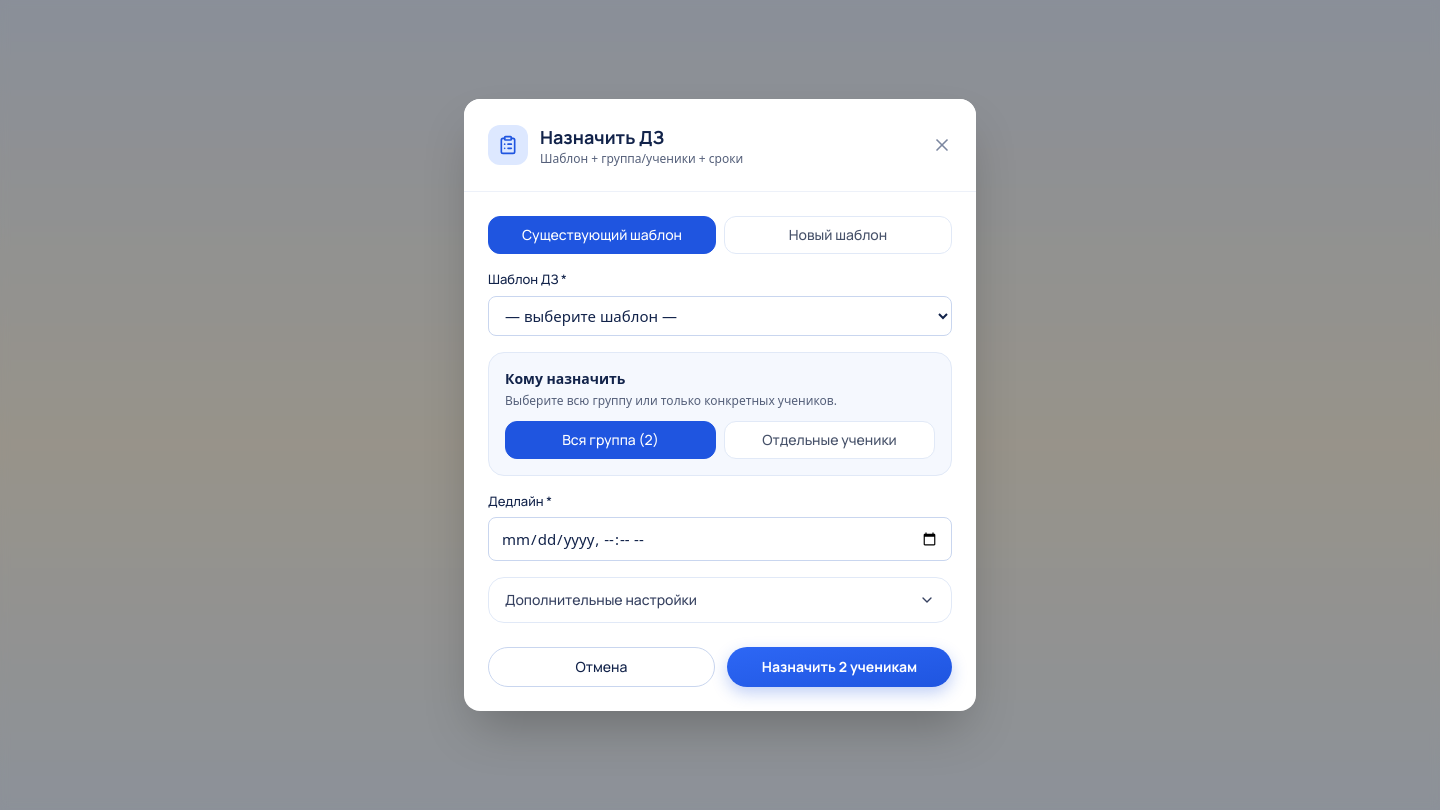
Test case: AssignHomeworkTemplateModal › запланированная публикация без даты публикации — ошибка валидации
Select "Существующий шаблон (v1)" in the dropdown labelled "Шаблон ДЗ *". click: x=720, y=316
box: 488,296 -> 952,336
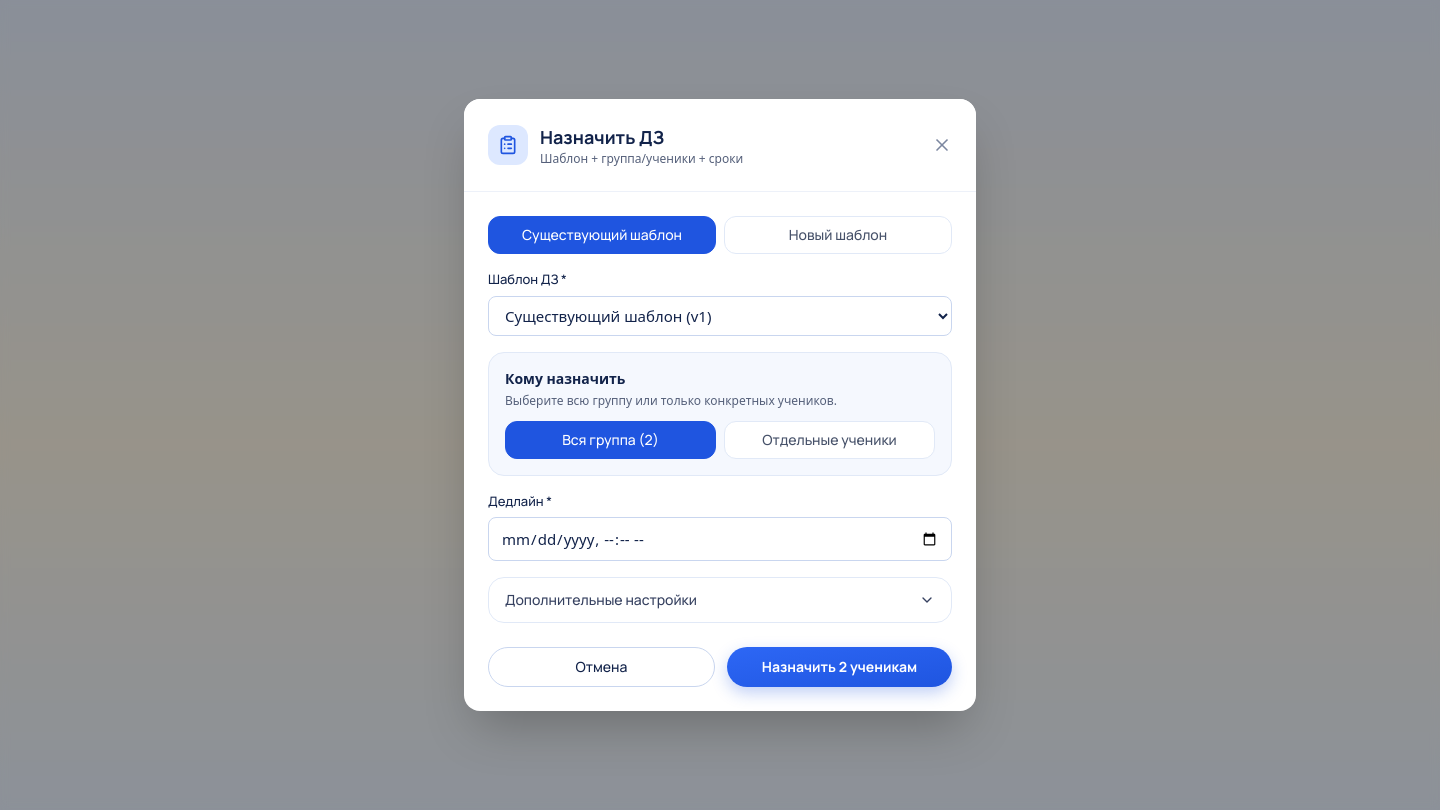
Click the button "Дополнительные настройки". click: x=601, y=600
box: 489,578 -> 951,622
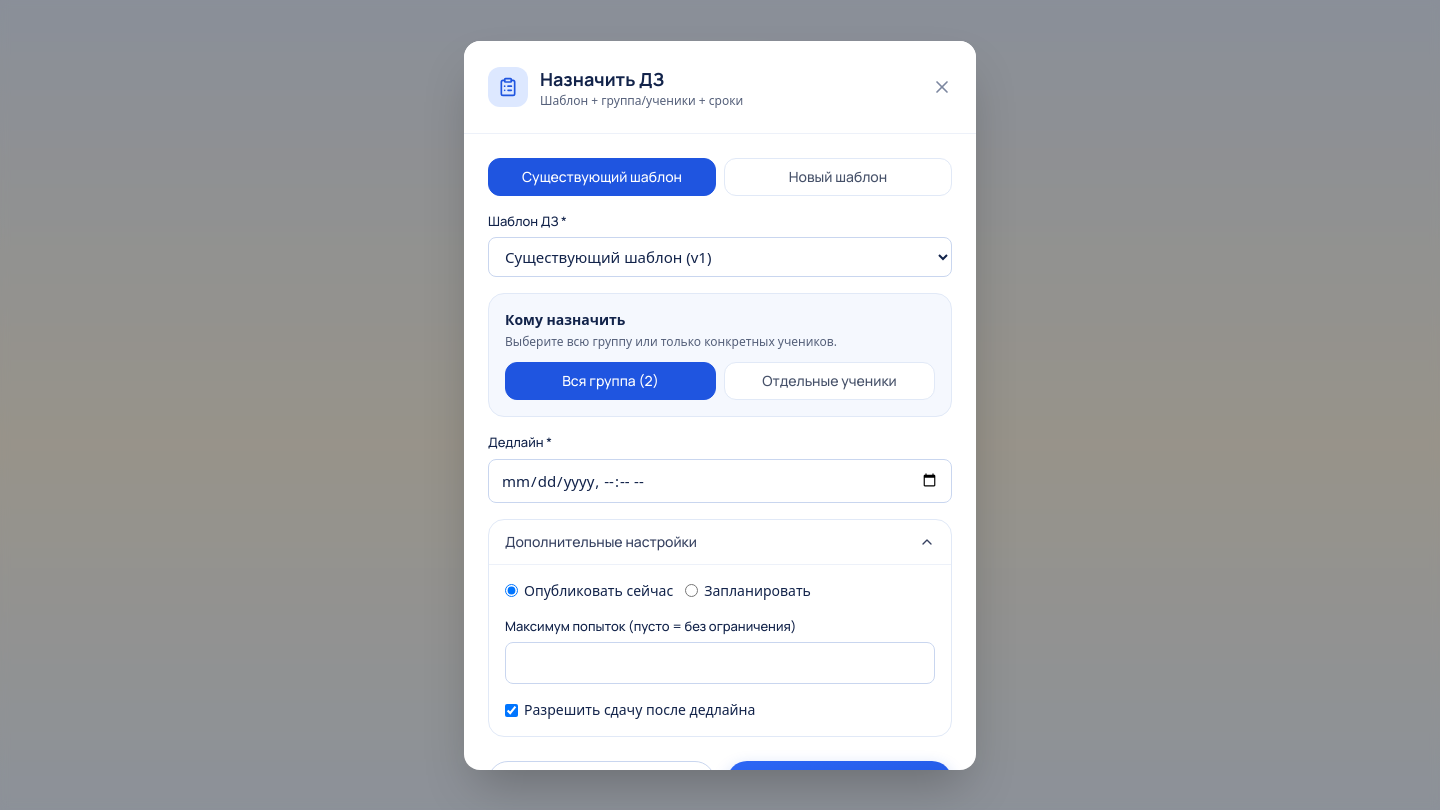
Click the radio button labelled "Запланировать". click: x=692, y=590
box: 685,584 -> 698,597
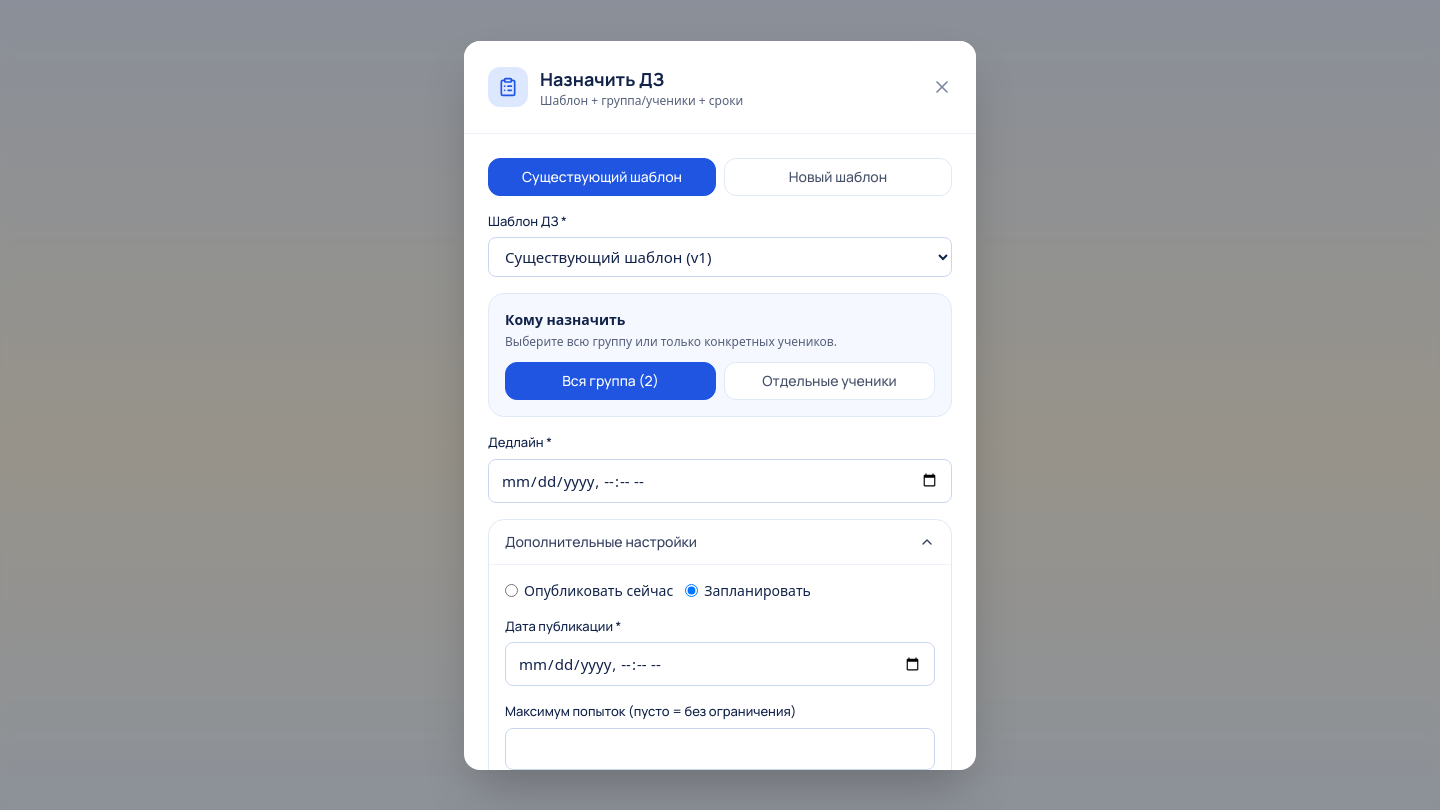
Type "2026-12-01T12:00" into the field labelled "Дедлайн *". click: x=720, y=480
box: 488,458 -> 952,502
(page scrolled)
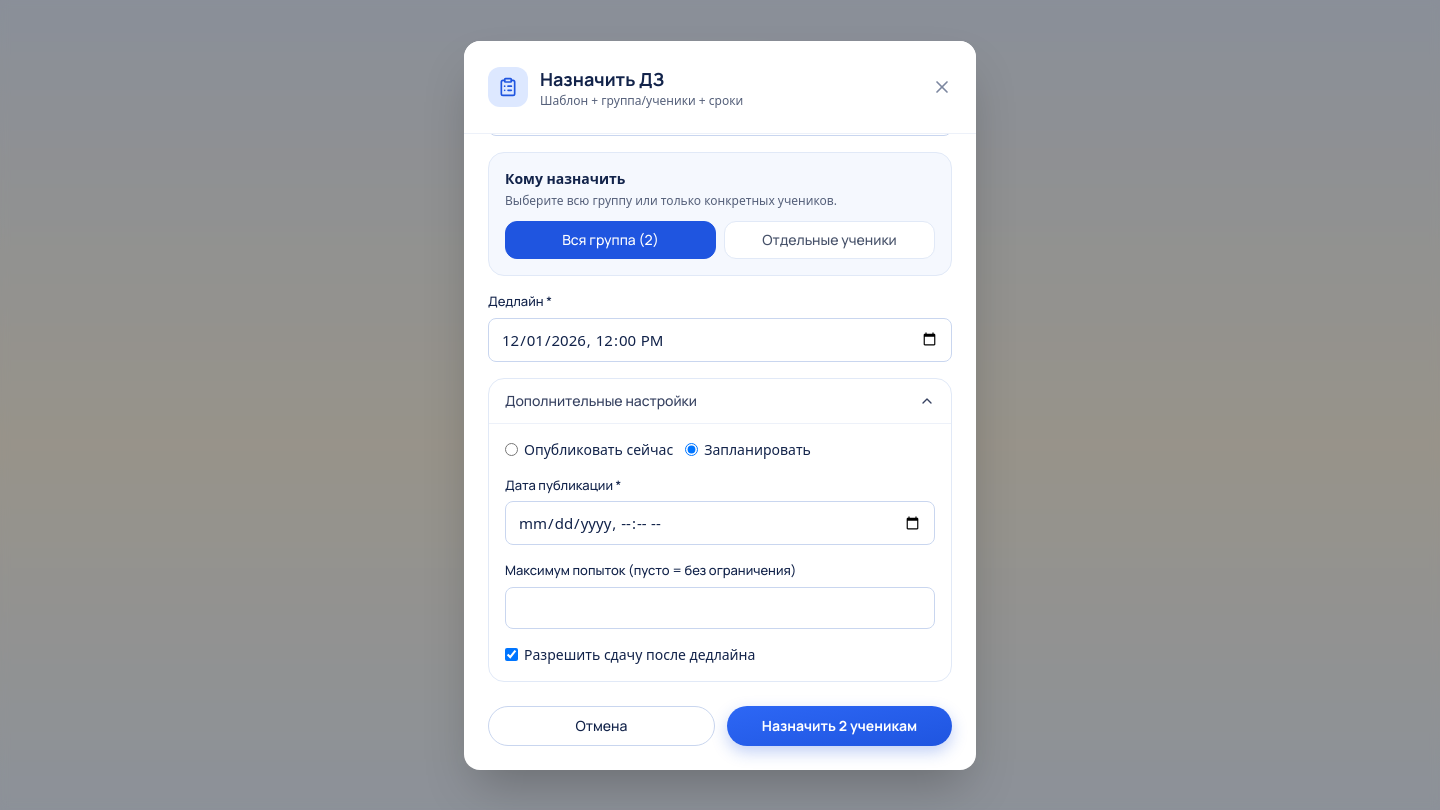
Click the button "Назначить 2 ученикам". click: x=840, y=726
box: 727,706 -> 952,746
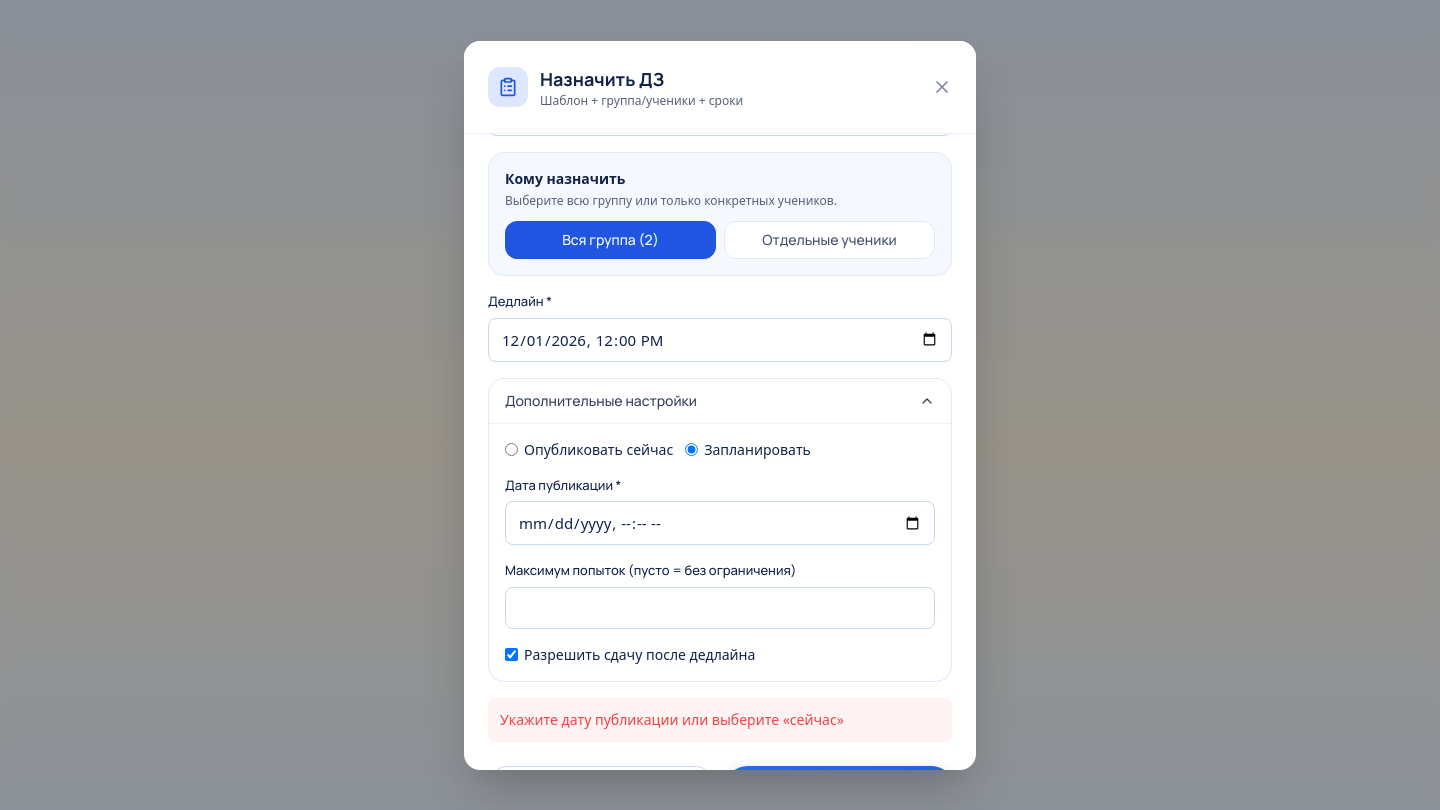
Check: the text "Укажите дату публикации или выберите «сейчас»" is shown, box 488,698 -> 952,742
